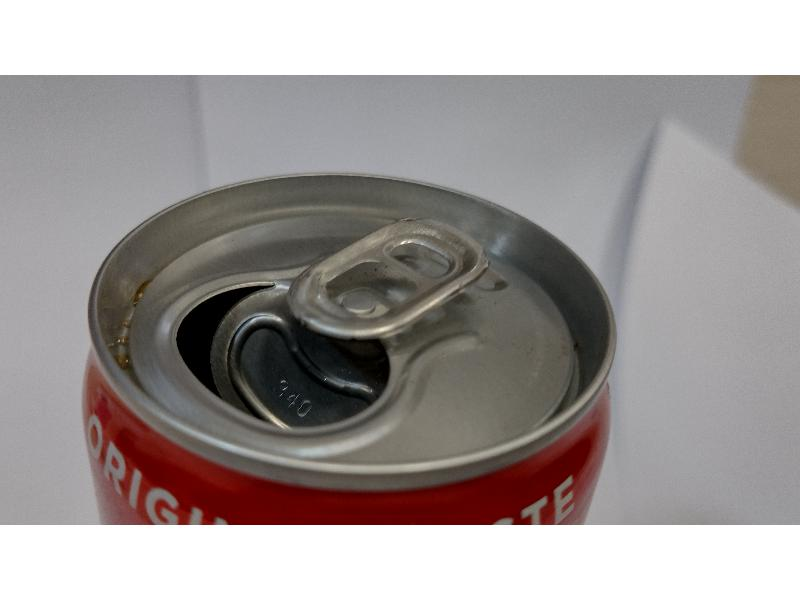can: (72, 167, 629, 522)
